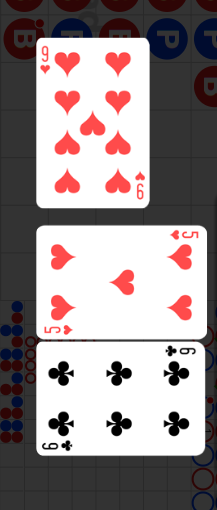5H: (168, 228, 200, 241)
6C: (163, 345, 197, 359)
9H: (40, 45, 52, 76)
